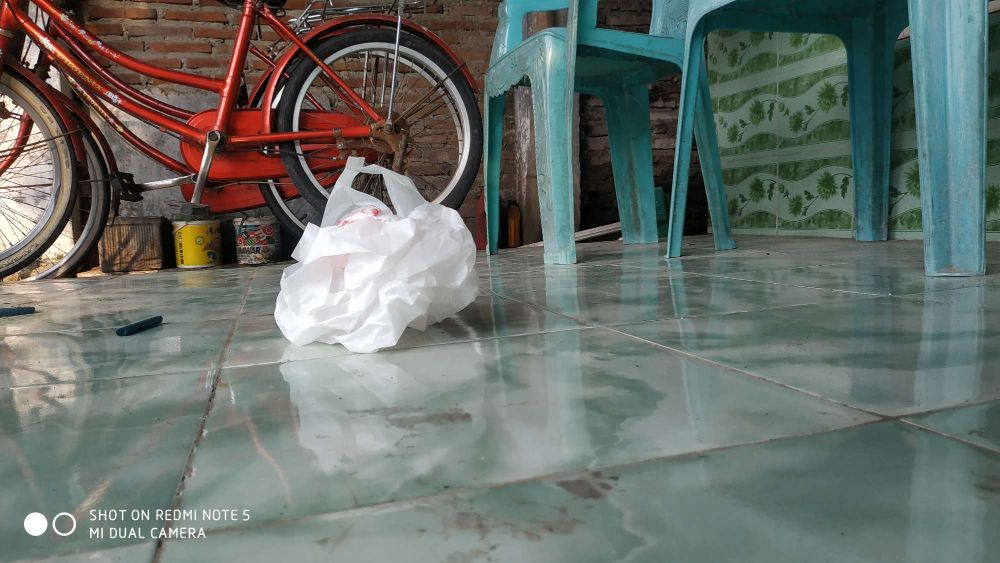plastik: (286, 153, 470, 336)
